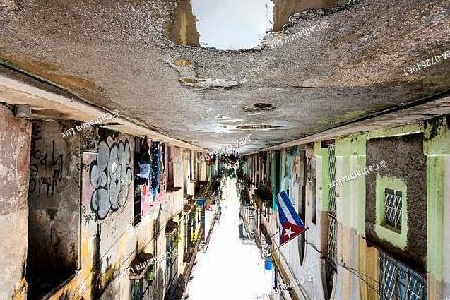pothole: (163, 2, 367, 55), (164, 56, 201, 93), (177, 76, 240, 93), (241, 101, 277, 114), (235, 124, 284, 132)
